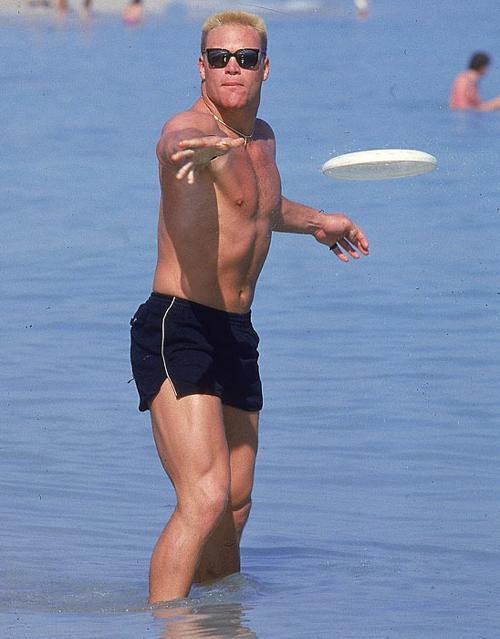person: (130, 11, 370, 610)
